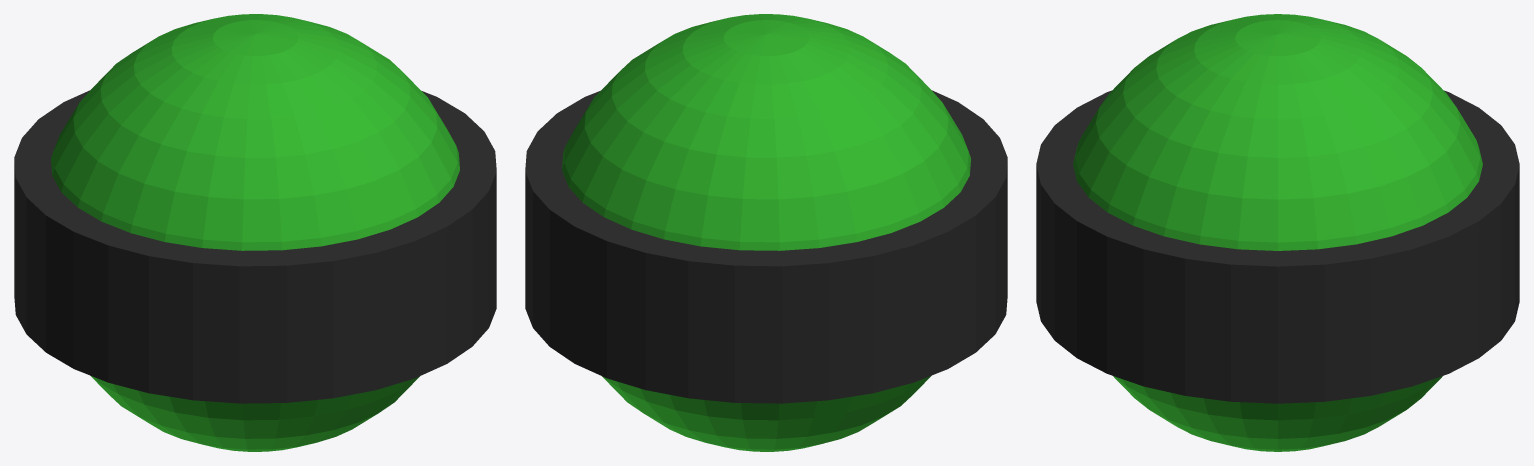
The model's file is kolumba.glb.
3 renders of one model, left to right at view 1: azimuth 30°, elevation 25°; view 2: azimuth 150°, elevation 25°; view 3: azimuth 270°, elevation 25°, orthographic.
Visible parts, largest first — view 1: Сфера, Циліндр; view 2: Сфера, Циліндр; view 3: Сфера, Циліндр.
Boxes of the visible parts, left/top/right/bottom form: Сфера: left=51, top=14, right=459, bottom=451; Циліндр: left=14, top=90, right=496, bottom=403; Сфера: left=562, top=14, right=970, bottom=451; Циліндр: left=525, top=90, right=1007, bottom=403; Сфера: left=1073, top=14, right=1482, bottom=451; Циліндр: left=1036, top=90, right=1519, bottom=403.
Bounding box in the file's own units: 3.55 × 3.22 × 3.55.
